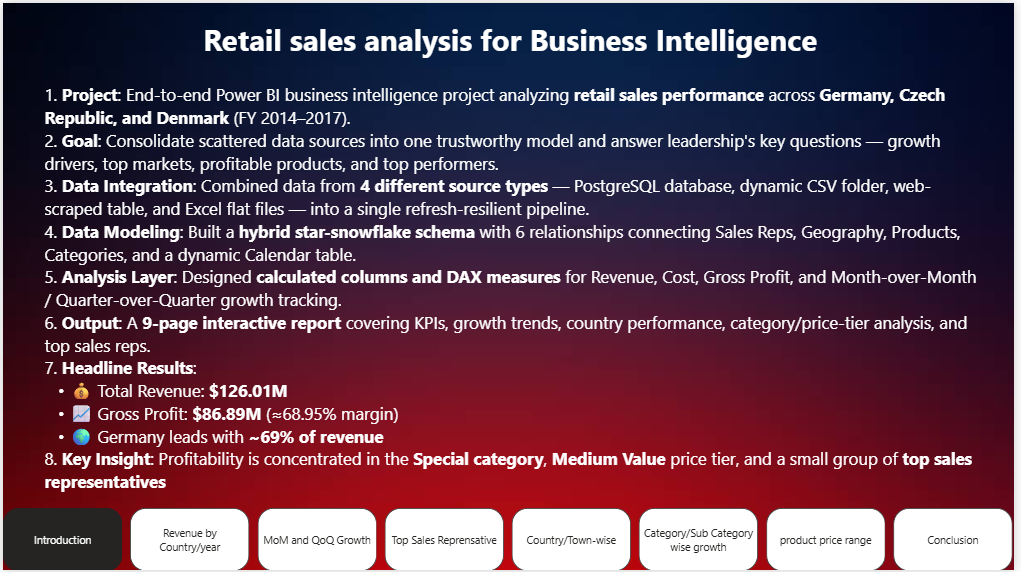

This screenshot's page, from the dashboard's own definition file:
{"tool":"powerbi","page":{"name":"Introduction","canvas":[1280,720],"ordinal":0},"visuals":[{"type":"textbox","box":[48,16,1200,64],"z":0},{"type":"textbox","box":[48,96,1200,528],"z":1000},{"type":"pageNavigator","box":[0,640,1280,80],"z":1001}]}

Visuals, with their boxes in screenshot pixels (x1, y1, x2, y2), scaled from the page's 1280x720 canvas onto the 1021x572 screenshot:
textbox: {"x1": 38, "y1": 13, "x2": 995, "y2": 64}
textbox: {"x1": 38, "y1": 76, "x2": 995, "y2": 496}
pageNavigator: {"x1": 0, "y1": 508, "x2": 1020, "y2": 571}
